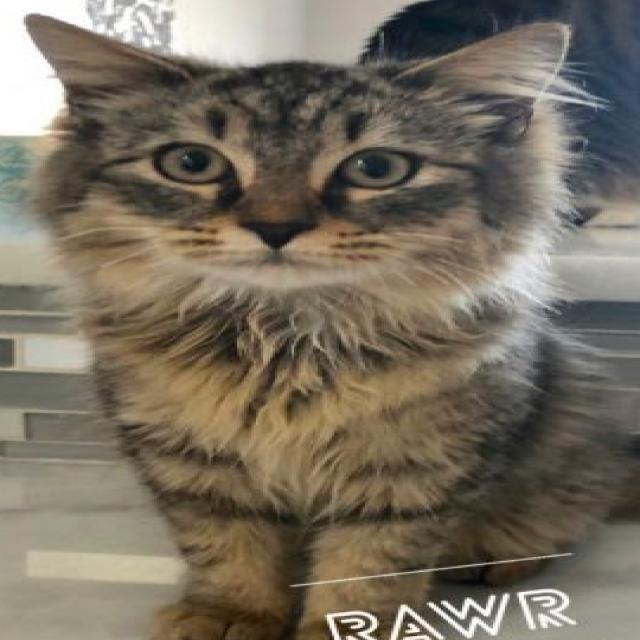Maine Coon: (19, 8, 640, 640)
